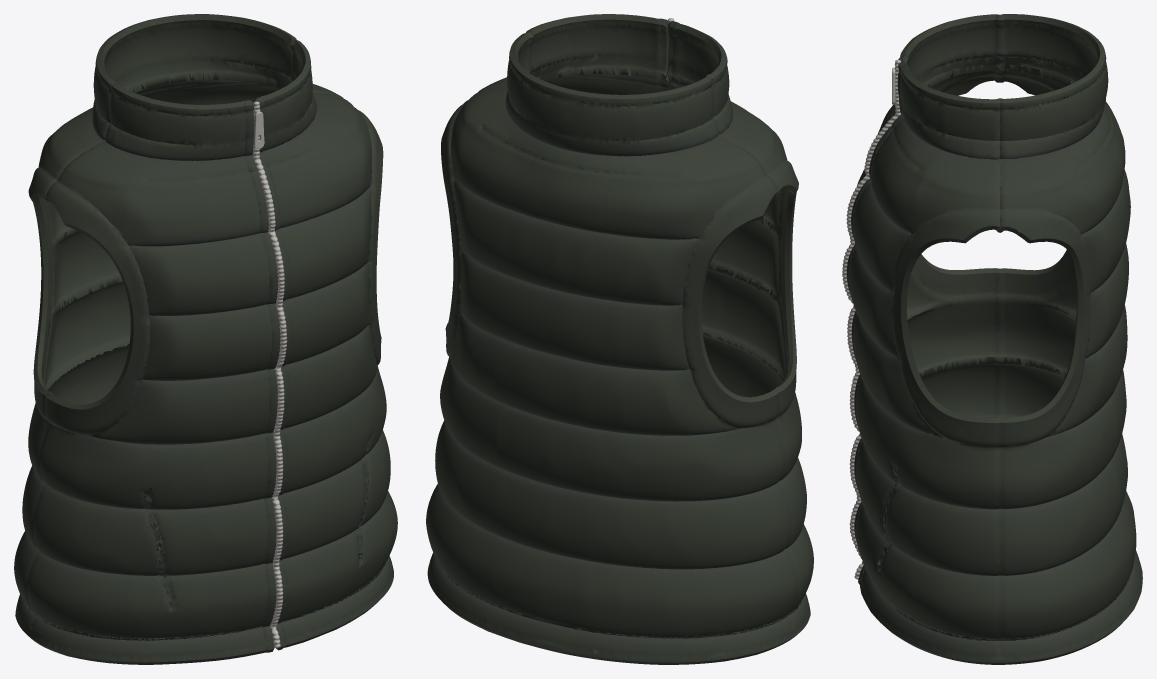
The model's file is 12_chaleco_acolchado_pbr.glb.
The picture shows the model from 3 angles, left to right: view 1: azimuth 30°, elevation 25°; view 2: azimuth 150°, elevation 25°; view 3: azimuth 270°, elevation 25°; orthographic projection. The views are drawn at different scales.
Visible parts, largest first — view 1: Camiseta PBR, Cremallera; view 2: Camiseta PBR; view 3: Camiseta PBR, Cremallera.
Part boxes in pixels (bbox=[...]): Camiseta PBR: bbox=[14, 14, 397, 664]; Cremallera: bbox=[252, 101, 287, 648]; Camiseta PBR: bbox=[426, 14, 813, 664]; Camiseta PBR: bbox=[846, 14, 1142, 664]; Cremallera: bbox=[842, 60, 901, 579].
Bounding box in the file's own units: 0.4829 × 0.7036 × 0.3618.
2 materials, 1 textured.
